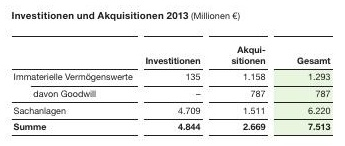table: (0, 0, 345, 146)
